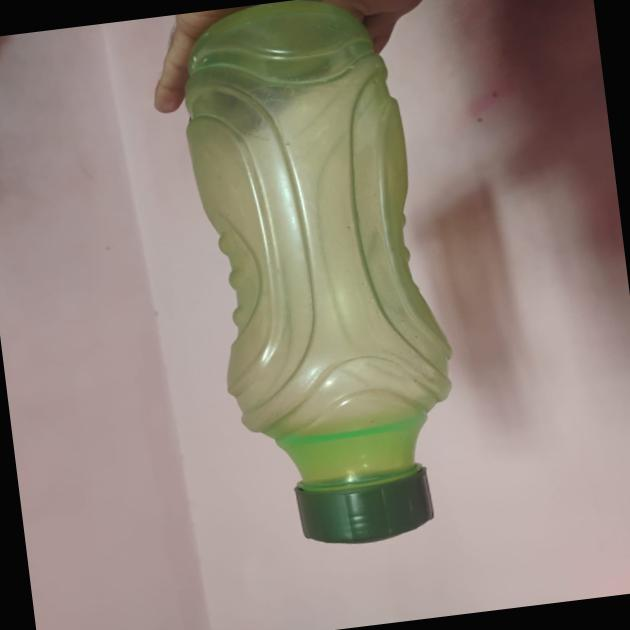waterbottle: (155, 5, 474, 557)
